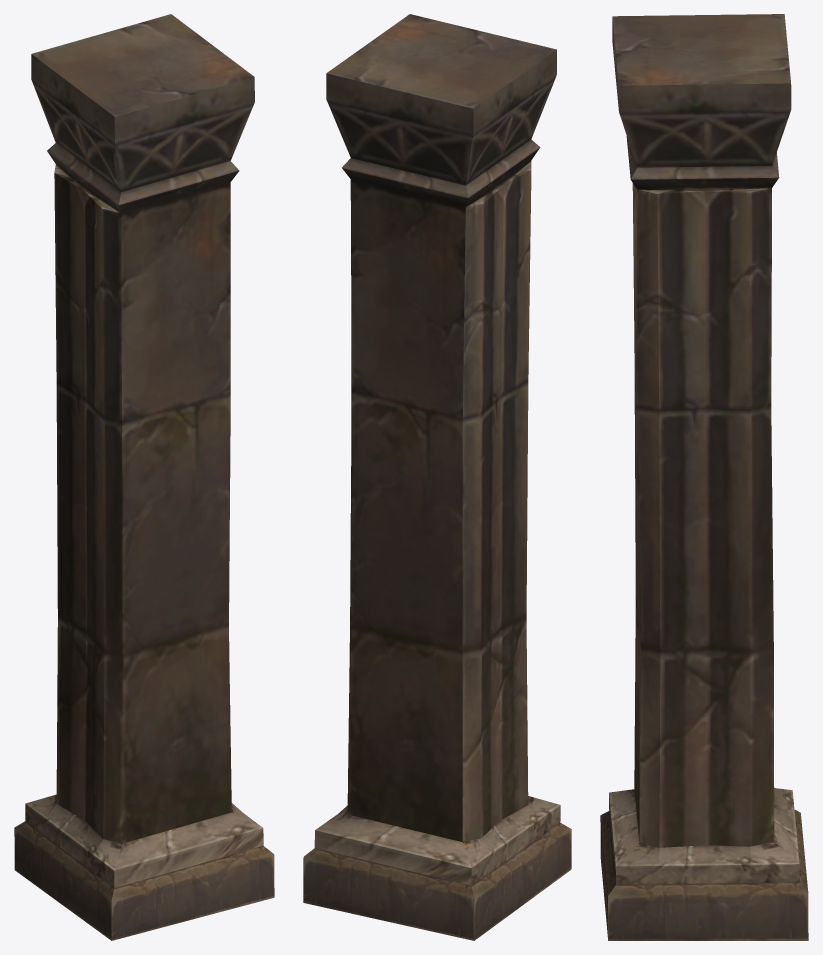
The model's file is blsd_4zhuzi_01.FBX.
3 renders of one model, left to right at view 1: azimuth 30°, elevation 25°; view 2: azimuth 150°, elevation 25°; view 3: azimuth 270°, elevation 25°, orthographic. The views are drawn at different scales.
Visible parts, largest first — view 1: blsd_4zhuzi_01; view 2: blsd_4zhuzi_01; view 3: blsd_4zhuzi_01.
Boxes of the visible parts, <box> form: blsd_4zhuzi_01: <box>14,14,274,940</box>; blsd_4zhuzi_01: <box>303,14,571,940</box>; blsd_4zhuzi_01: <box>600,14,808,940</box>.
Bounding box in the file's own units: 185 × 870 × 193.
